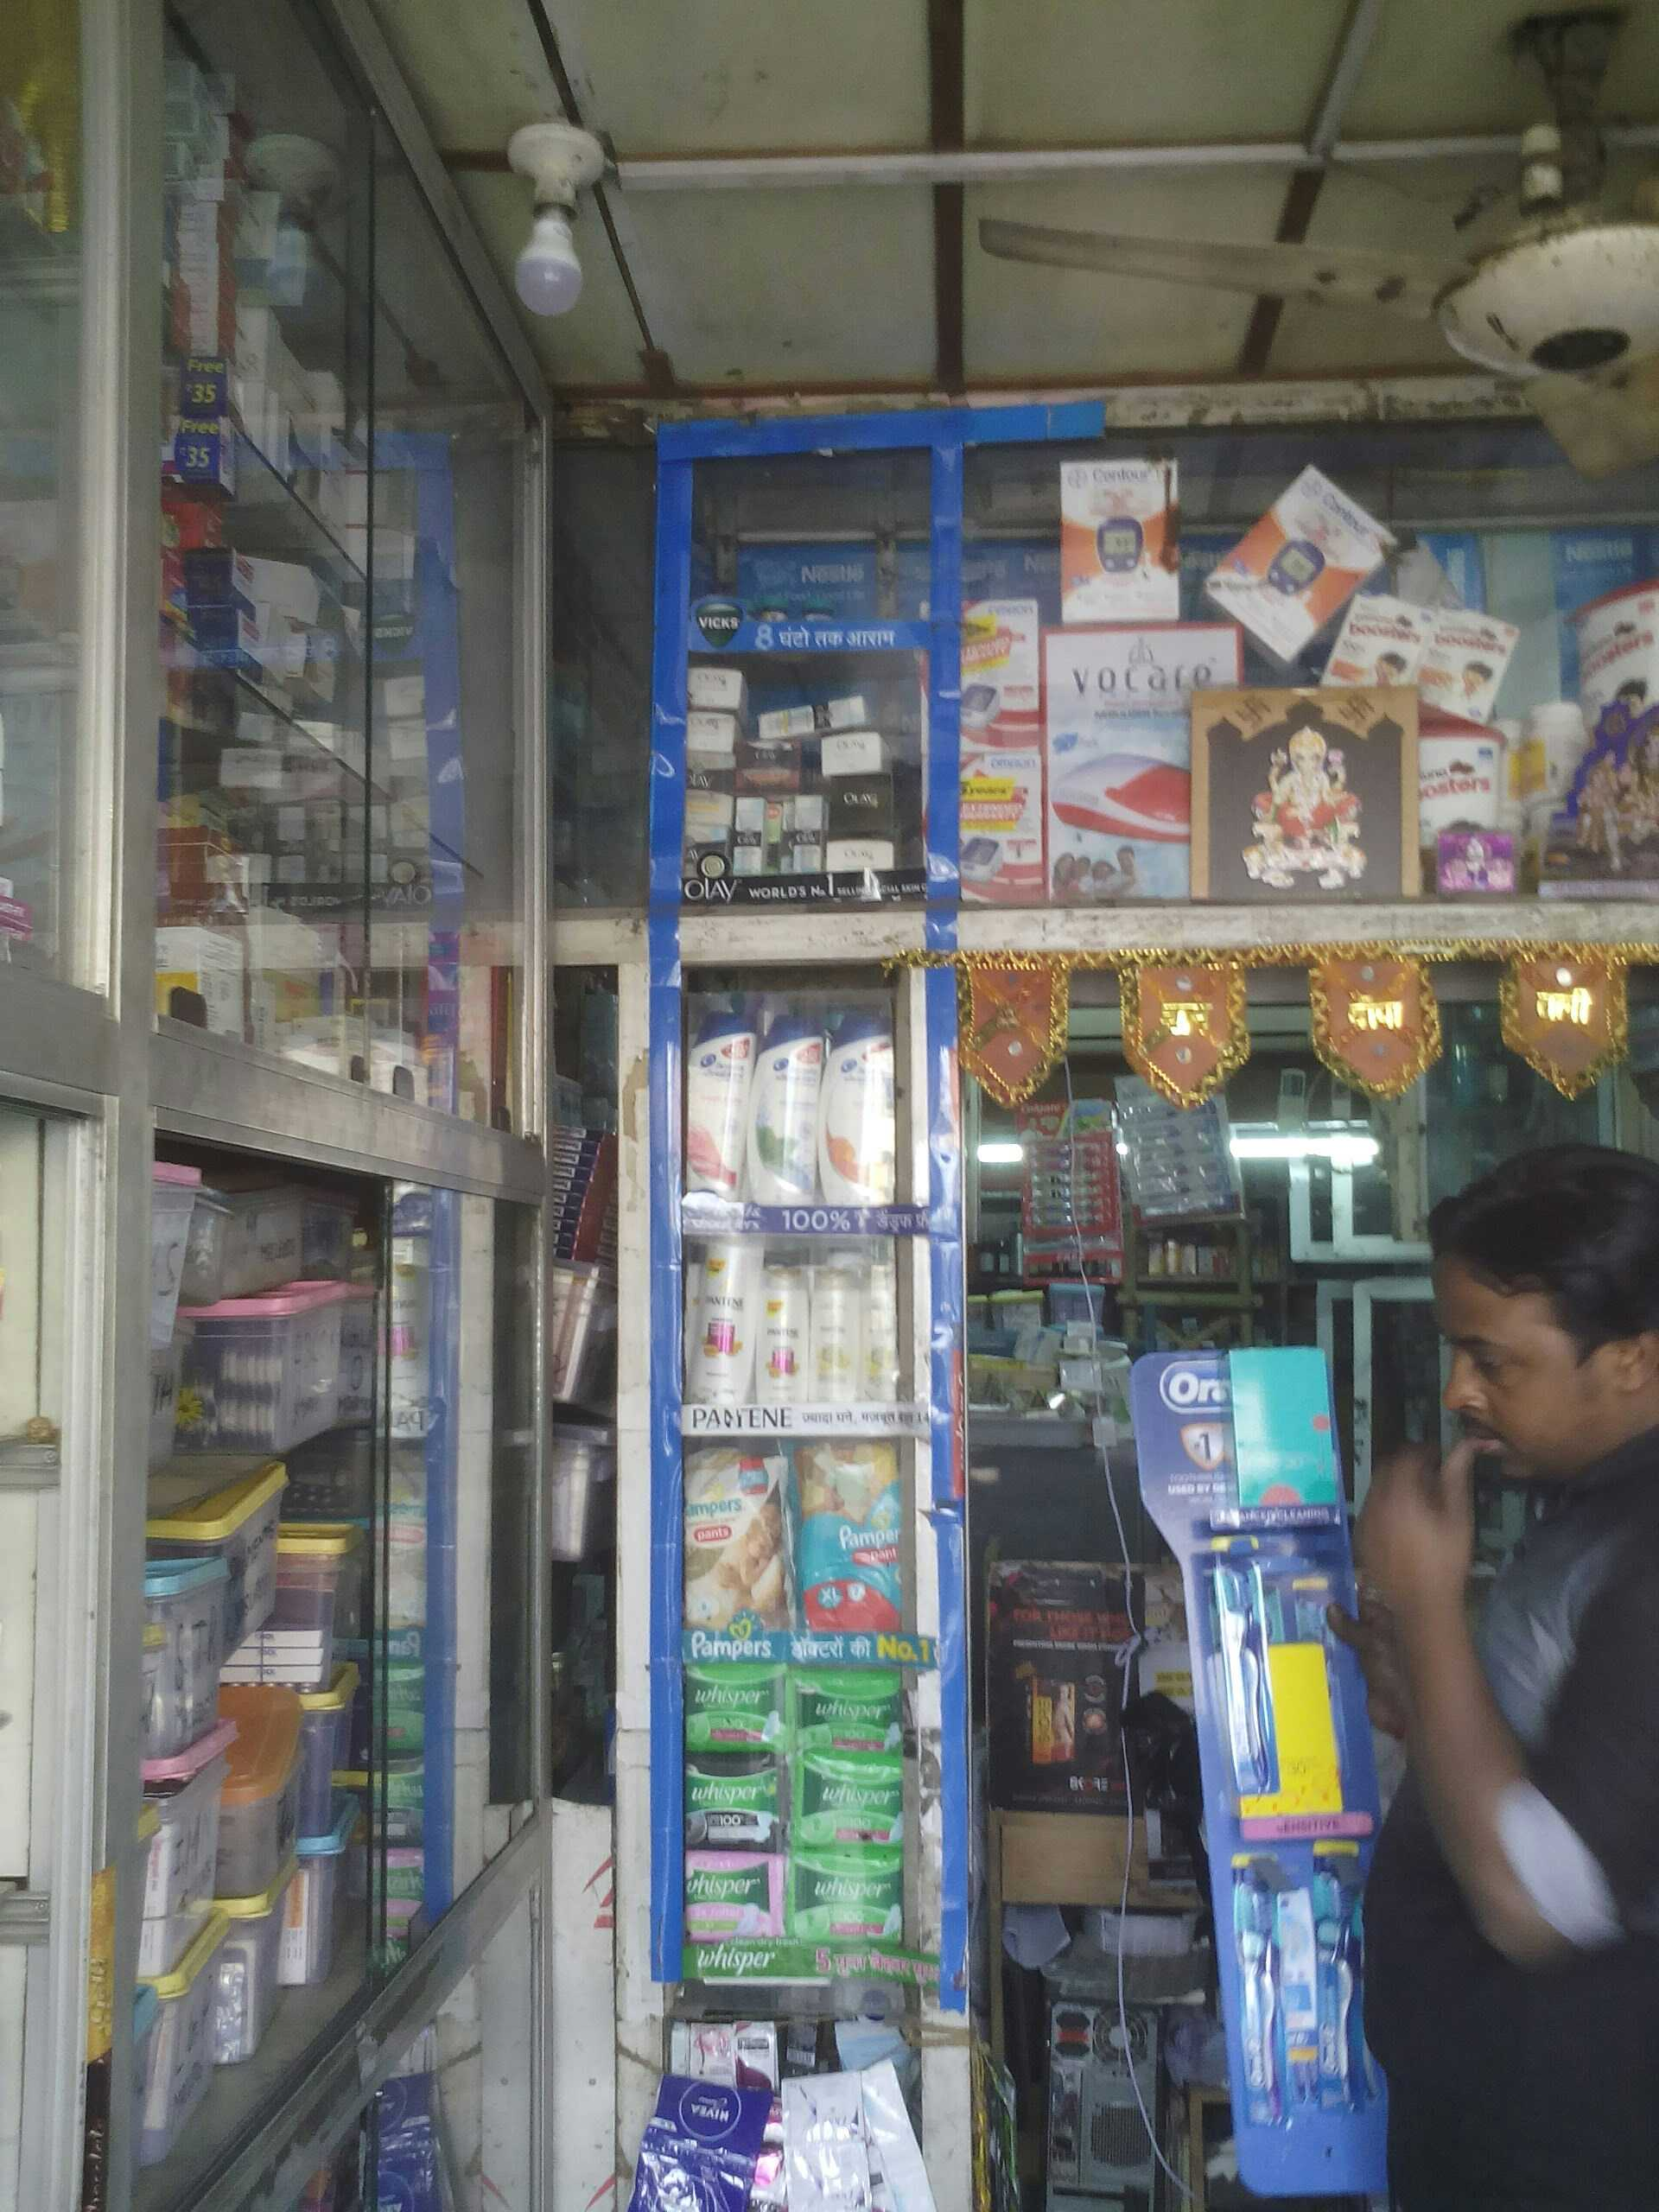beauty: (739, 1000, 817, 1221), (674, 1001, 748, 1223), (819, 1014, 903, 1205), (681, 1240, 755, 1421), (746, 1268, 814, 1414), (805, 1266, 866, 1402), (838, 766, 896, 878), (749, 690, 863, 742), (770, 794, 829, 874), (728, 792, 762, 895)
pharmacy: (1206, 1844, 1312, 2142), (786, 1444, 917, 1649), (1213, 1554, 1291, 1860), (1305, 1843, 1380, 2121), (694, 1439, 793, 1642), (786, 1738, 922, 1860), (786, 1855, 908, 1951), (781, 1667, 913, 1749), (683, 1665, 789, 1759), (676, 1851, 775, 1942), (685, 1759, 781, 1844)
